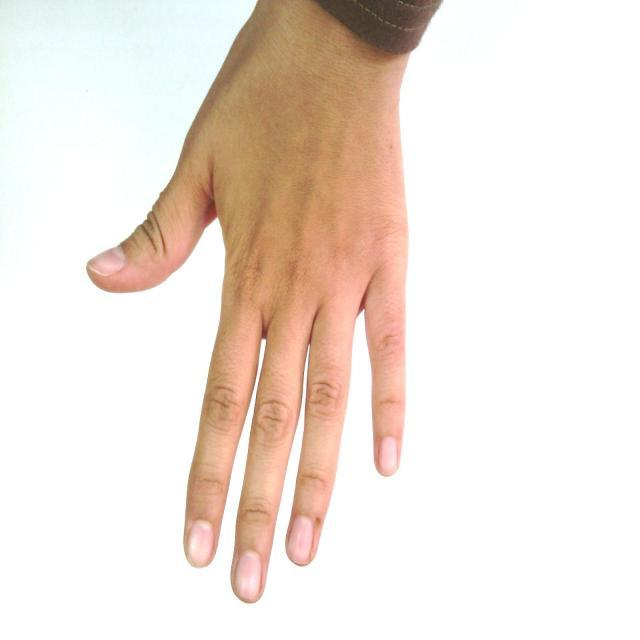Fingernail: (234, 550, 262, 601), (287, 516, 315, 565), (187, 520, 214, 566), (88, 245, 125, 277), (379, 436, 397, 475)
